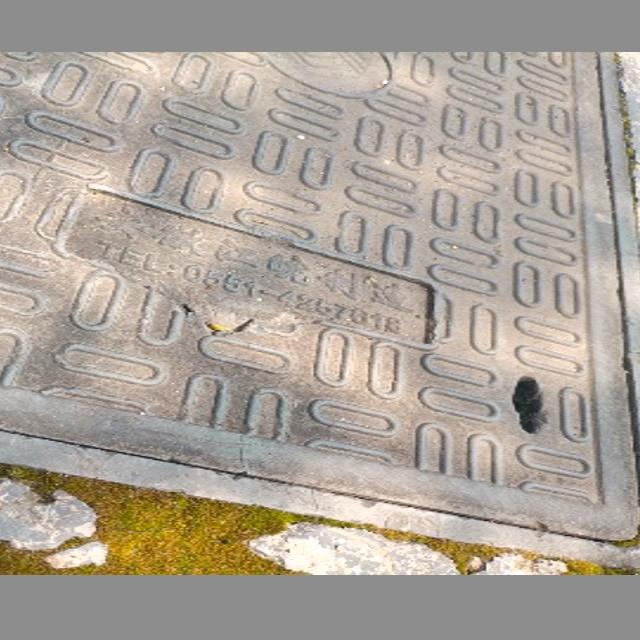broke: (0, 68, 640, 508)
